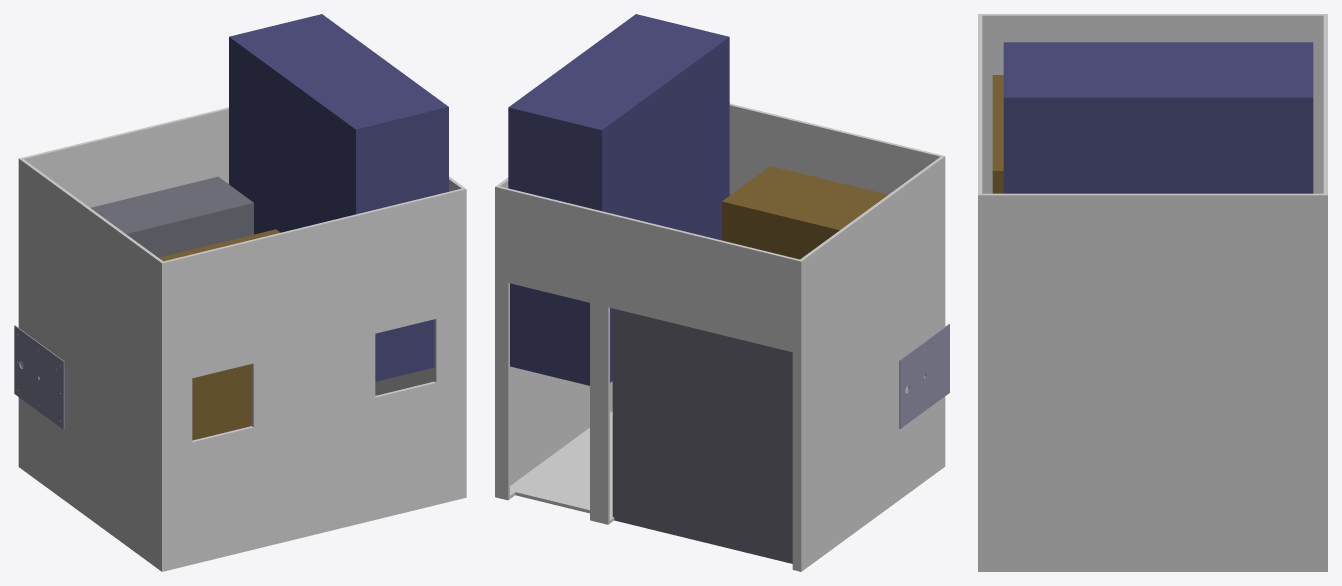
The model's file is assembly-exploded.glb.
The picture shows the model from 3 angles, left to right: view 1: azimuth 30°, elevation 25°; view 2: azimuth 150°, elevation 25°; view 3: azimuth 270°, elevation 25°; orthographic projection. The views are drawn at different scales.
Parts seen in each view (by area): view 1: container_shell, GRD-SWG-001, GRD-LVS-001, GRD-XFM-001, ARC-PLT-CG; view 2: container_shell, GRD-SWG-001, GRD-LVS-001, GRD-XFM-001, ARC-PLT-CG; view 3: container_shell, GRD-SWG-001, GRD-XFM-001.
Boxes of the visible parts, left/top/right/bottom form: container_shell: left=18, top=107, right=466, bottom=571; GRD-SWG-001: left=229, top=14, right=448, bottom=381; GRD-LVS-001: left=90, top=176, right=253, bottom=257; GRD-XFM-001: left=159, top=229, right=280, bottom=440; ARC-PLT-CG: left=14, top=325, right=64, bottom=429; container_shell: left=495, top=103, right=945, bottom=571; GRD-SWG-001: left=508, top=14, right=729, bottom=385; GRD-LVS-001: left=612, top=308, right=792, bottom=563; GRD-XFM-001: left=722, top=166, right=887, bottom=259; ARC-PLT-CG: left=899, top=324, right=949, bottom=428; container_shell: left=978, top=14, right=1327, bottom=571; GRD-SWG-001: left=1003, top=42, right=1313, bottom=193; GRD-XFM-001: left=992, top=75, right=1003, bottom=193.
Size of the model in its own units: 3496 by 3613 by 2438.
